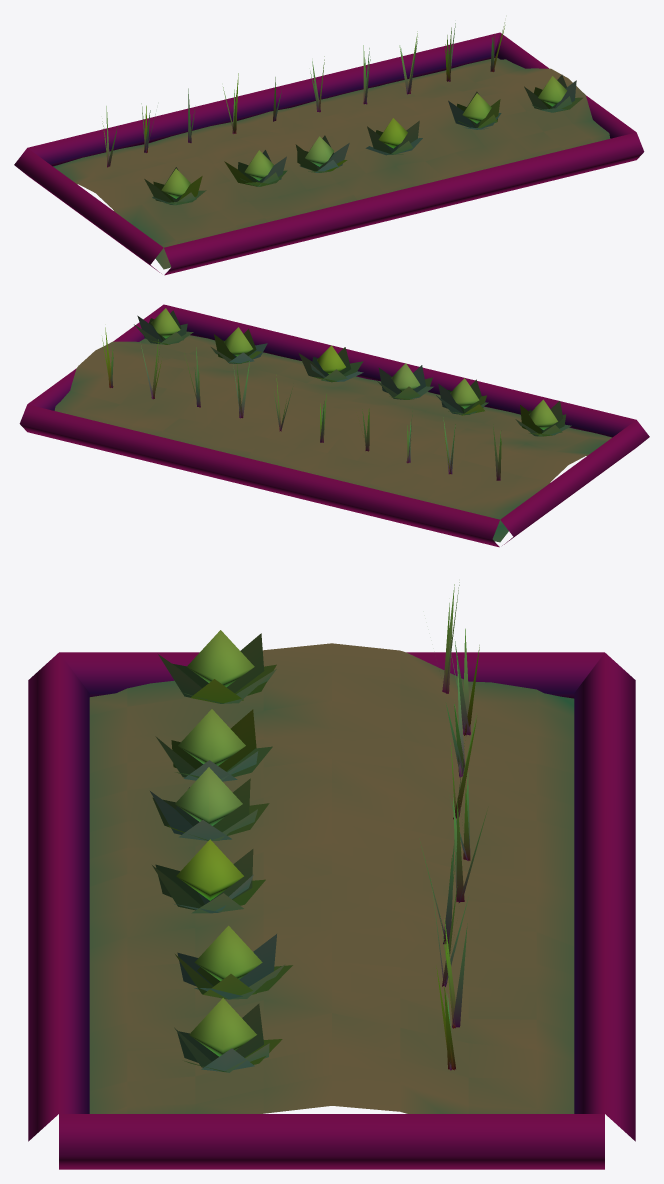
Rendered from veg_garden_bed.glb.
3 views of the same model, one above another, from view 1: azimuth 30°, elevation 25°; view 2: azimuth 150°, elevation 25°; view 3: azimuth 270°, elevation 25° (orthographic). The views are drawn at different scales.
Parts seen in each view (by area): view 1: veg_garden_bed_LOD0; view 2: veg_garden_bed_LOD0; view 3: veg_garden_bed_LOD0.
Part boxes in pixels (x1,y1,x2,y2): veg_garden_bed_LOD0: [14, 22, 644, 275]; veg_garden_bed_LOD0: [19, 304, 649, 547]; veg_garden_bed_LOD0: [28, 582, 635, 1169].
Size of what is drawn, in the model's own units: 1.69 by 0.2815 by 0.89.
